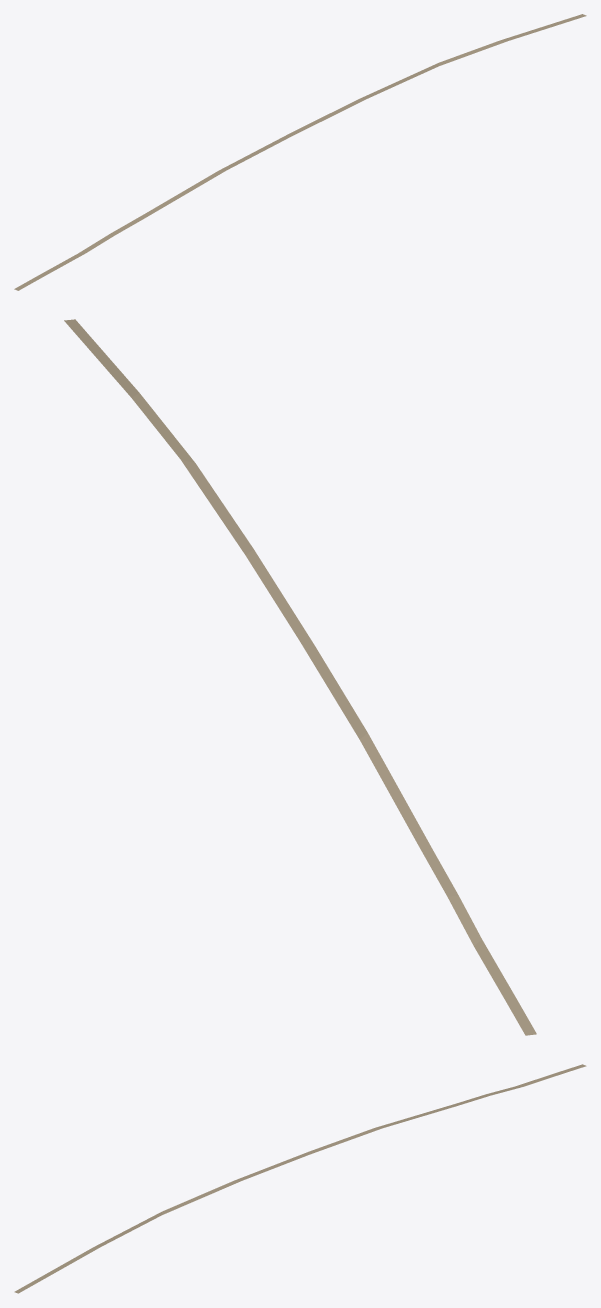
Rendered from farm_-7_0_track.glb.
3 renders of one model, top to bottom at view 1: azimuth 90°, elevation 25°; view 2: azimuth 150°, elevation 25°; view 3: azimuth 270°, elevation 25°, orthographic. The views are drawn at different scales.
Parts seen in each view (by area): view 1: geometry_0; view 2: geometry_0; view 3: geometry_0.
Part boxes in pixels (x1,y1,x2,y2): geometry_0: (14,14,586,290); geometry_0: (64,319,536,1035); geometry_0: (14,1064,586,1293).
Size of the model in its own units: 326 by 23.22 by 312.
